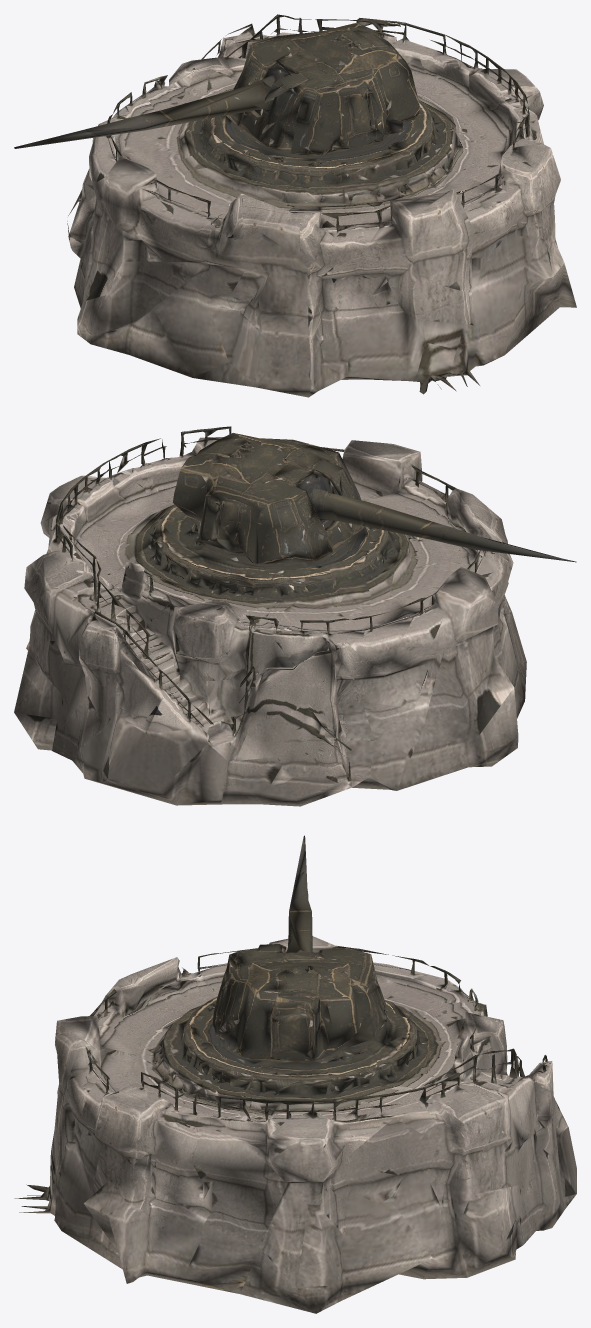
Rendered from cannon.glb.
3 views of the same model, one above another, from view 1: azimuth 30°, elevation 25°; view 2: azimuth 150°, elevation 25°; view 3: azimuth 270°, elevation 25° (orthographic).
Parts seen in each view (by area): view 1: cannon; view 2: cannon; view 3: cannon.
Boxes of the visible parts, <box> form: cannon: <box>14,14,576,397</box>; cannon: <box>14,426,576,806</box>; cannon: <box>14,835,576,1313</box>.
Bounding box in the file's own units: 1.9 × 0.8336 × 1.71.
Materials: 1 (1 with a texture image).
